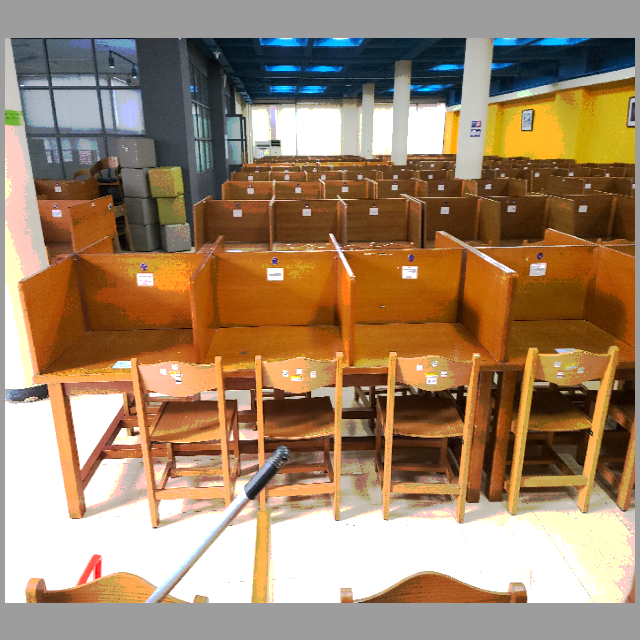empty: (20, 235, 194, 450), (197, 238, 357, 459), (361, 236, 504, 455)
